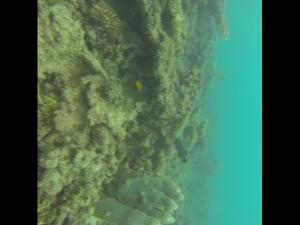bleached_corals: (38, 0, 198, 225)
